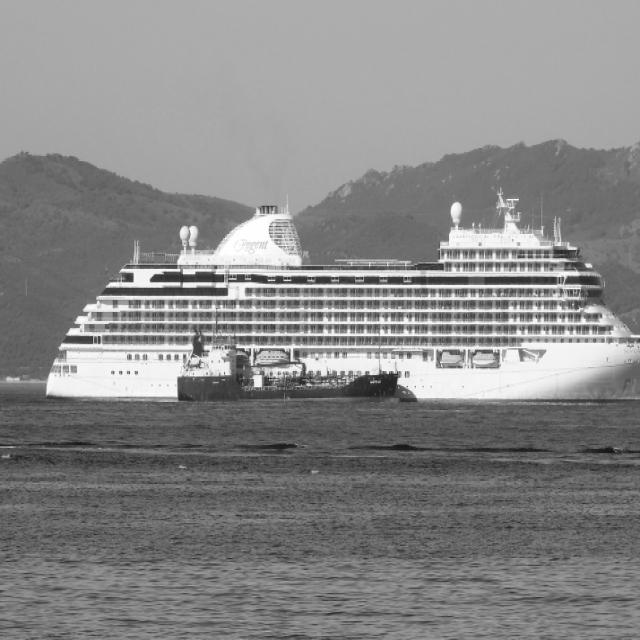cruises: (40, 182, 640, 414)
